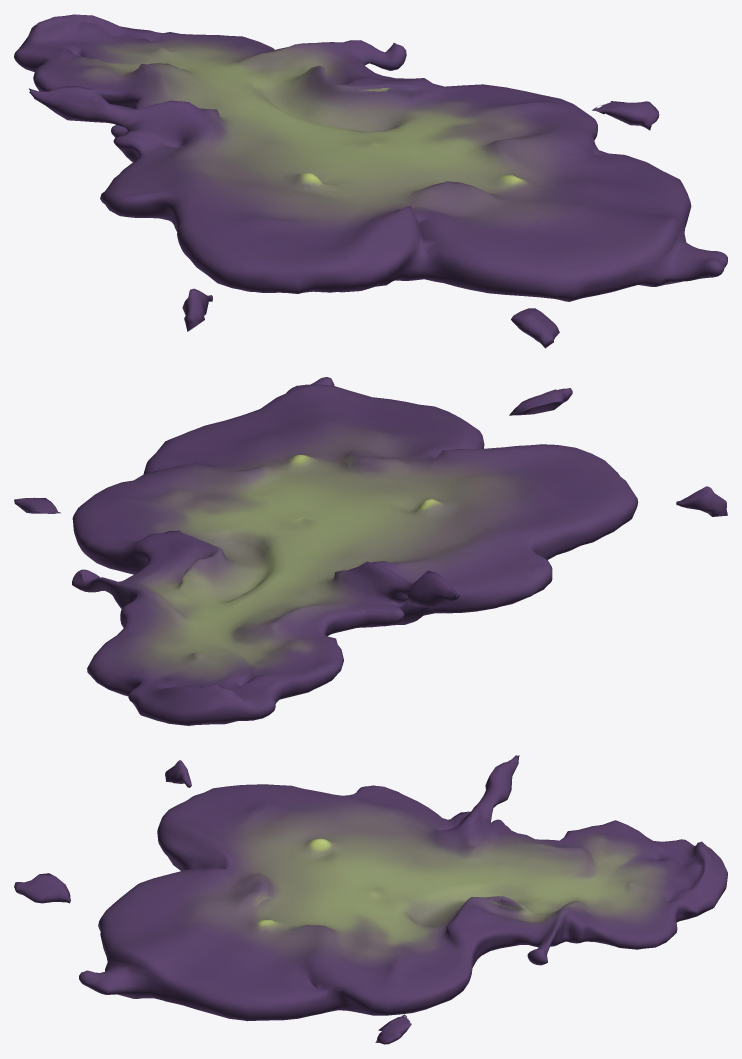
File: SM_Entorno_IslaResplandeciente_01.fbx
3 renders of one model, top to bottom at view 1: azimuth 30°, elevation 25°; view 2: azimuth 150°, elevation 25°; view 3: azimuth 270°, elevation 25°, orthographic. The views are drawn at different scales.
Parts seen in each view (by area): view 1: SM_Entorno_IslaResplandeciente_01; view 2: SM_Entorno_IslaResplandeciente_01; view 3: SM_Entorno_IslaResplandeciente_01.
Boxes of the visible parts, x1=… form: SM_Entorno_IslaResplandeciente_01: x1=14, y1=14, x2=727, y2=348; SM_Entorno_IslaResplandeciente_01: x1=14, y1=377, x2=727, y2=725; SM_Entorno_IslaResplandeciente_01: x1=14, y1=755, x2=727, y2=1044.
Bounding box in the file's own units: 0.7695 × 0.1414 × 0.9826.
Materials: 1 (1 with a texture image).
